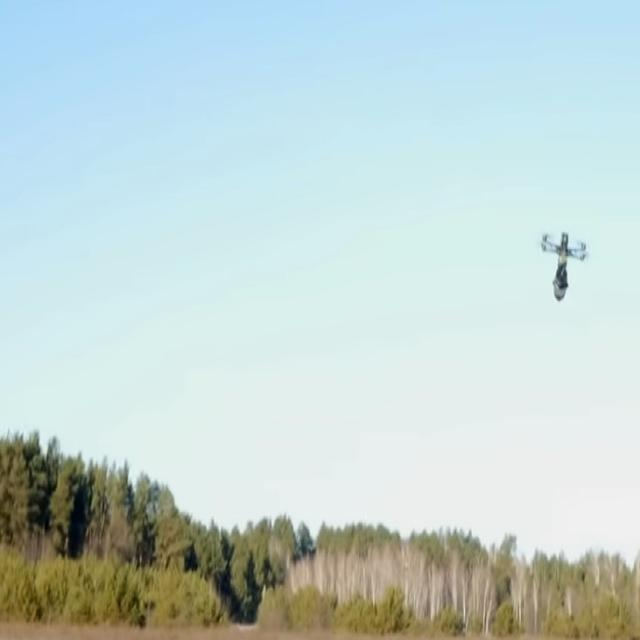drone: (535, 228, 591, 304)
